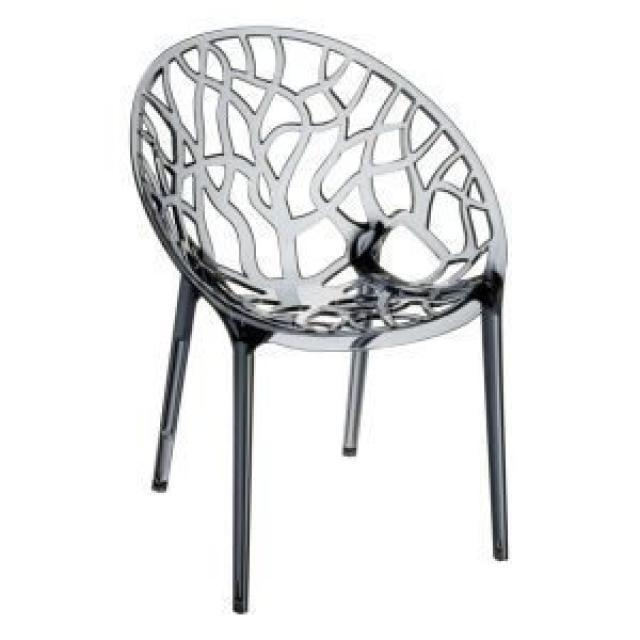chair: (126, 23, 527, 614)
